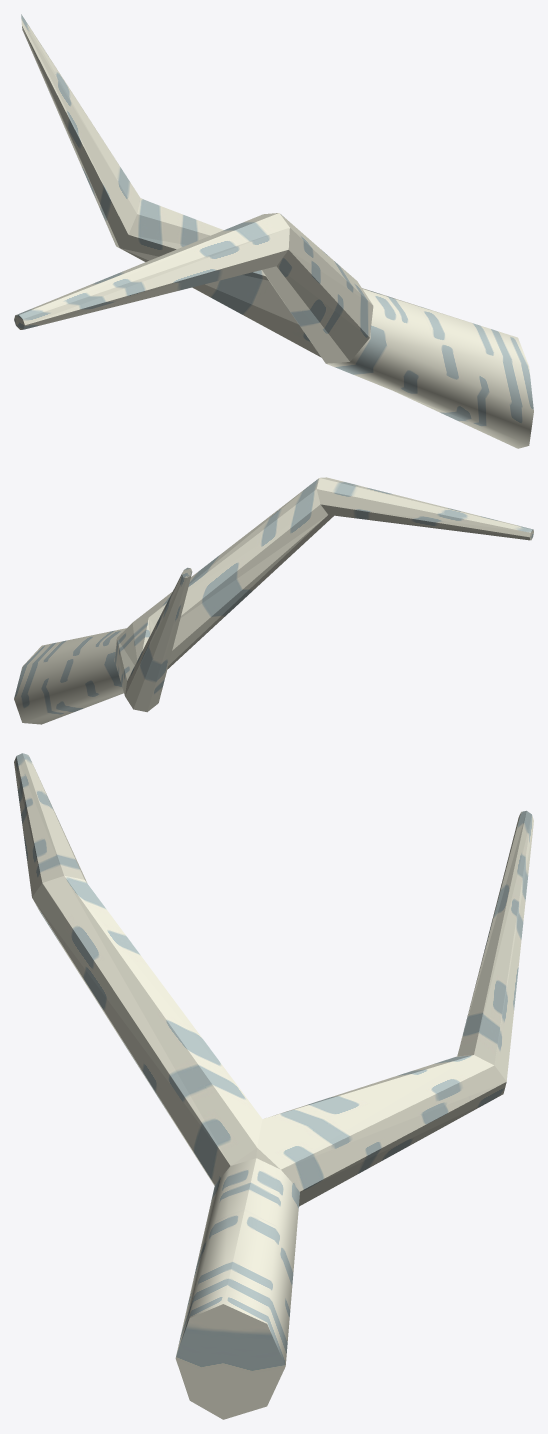
File: Vetka.FBX
The picture shows the model from 3 angles, top to bottom: view 1: azimuth 30°, elevation 25°; view 2: azimuth 150°, elevation 25°; view 3: azimuth 270°, elevation 25°; orthographic projection. The views are drawn at different scales.
Visible parts, largest first — view 1: Cylinder007; view 2: Cylinder007; view 3: Cylinder007.
Boxes of the visible parts, x1,y1,x2,y2 form: Cylinder007: (14,14,533,448); Cylinder007: (14,477,533,724); Cylinder007: (14,753,533,1419).
Size of the model in its own units: 5963 by 3892 by 4259.
1 material, 1 textured.
